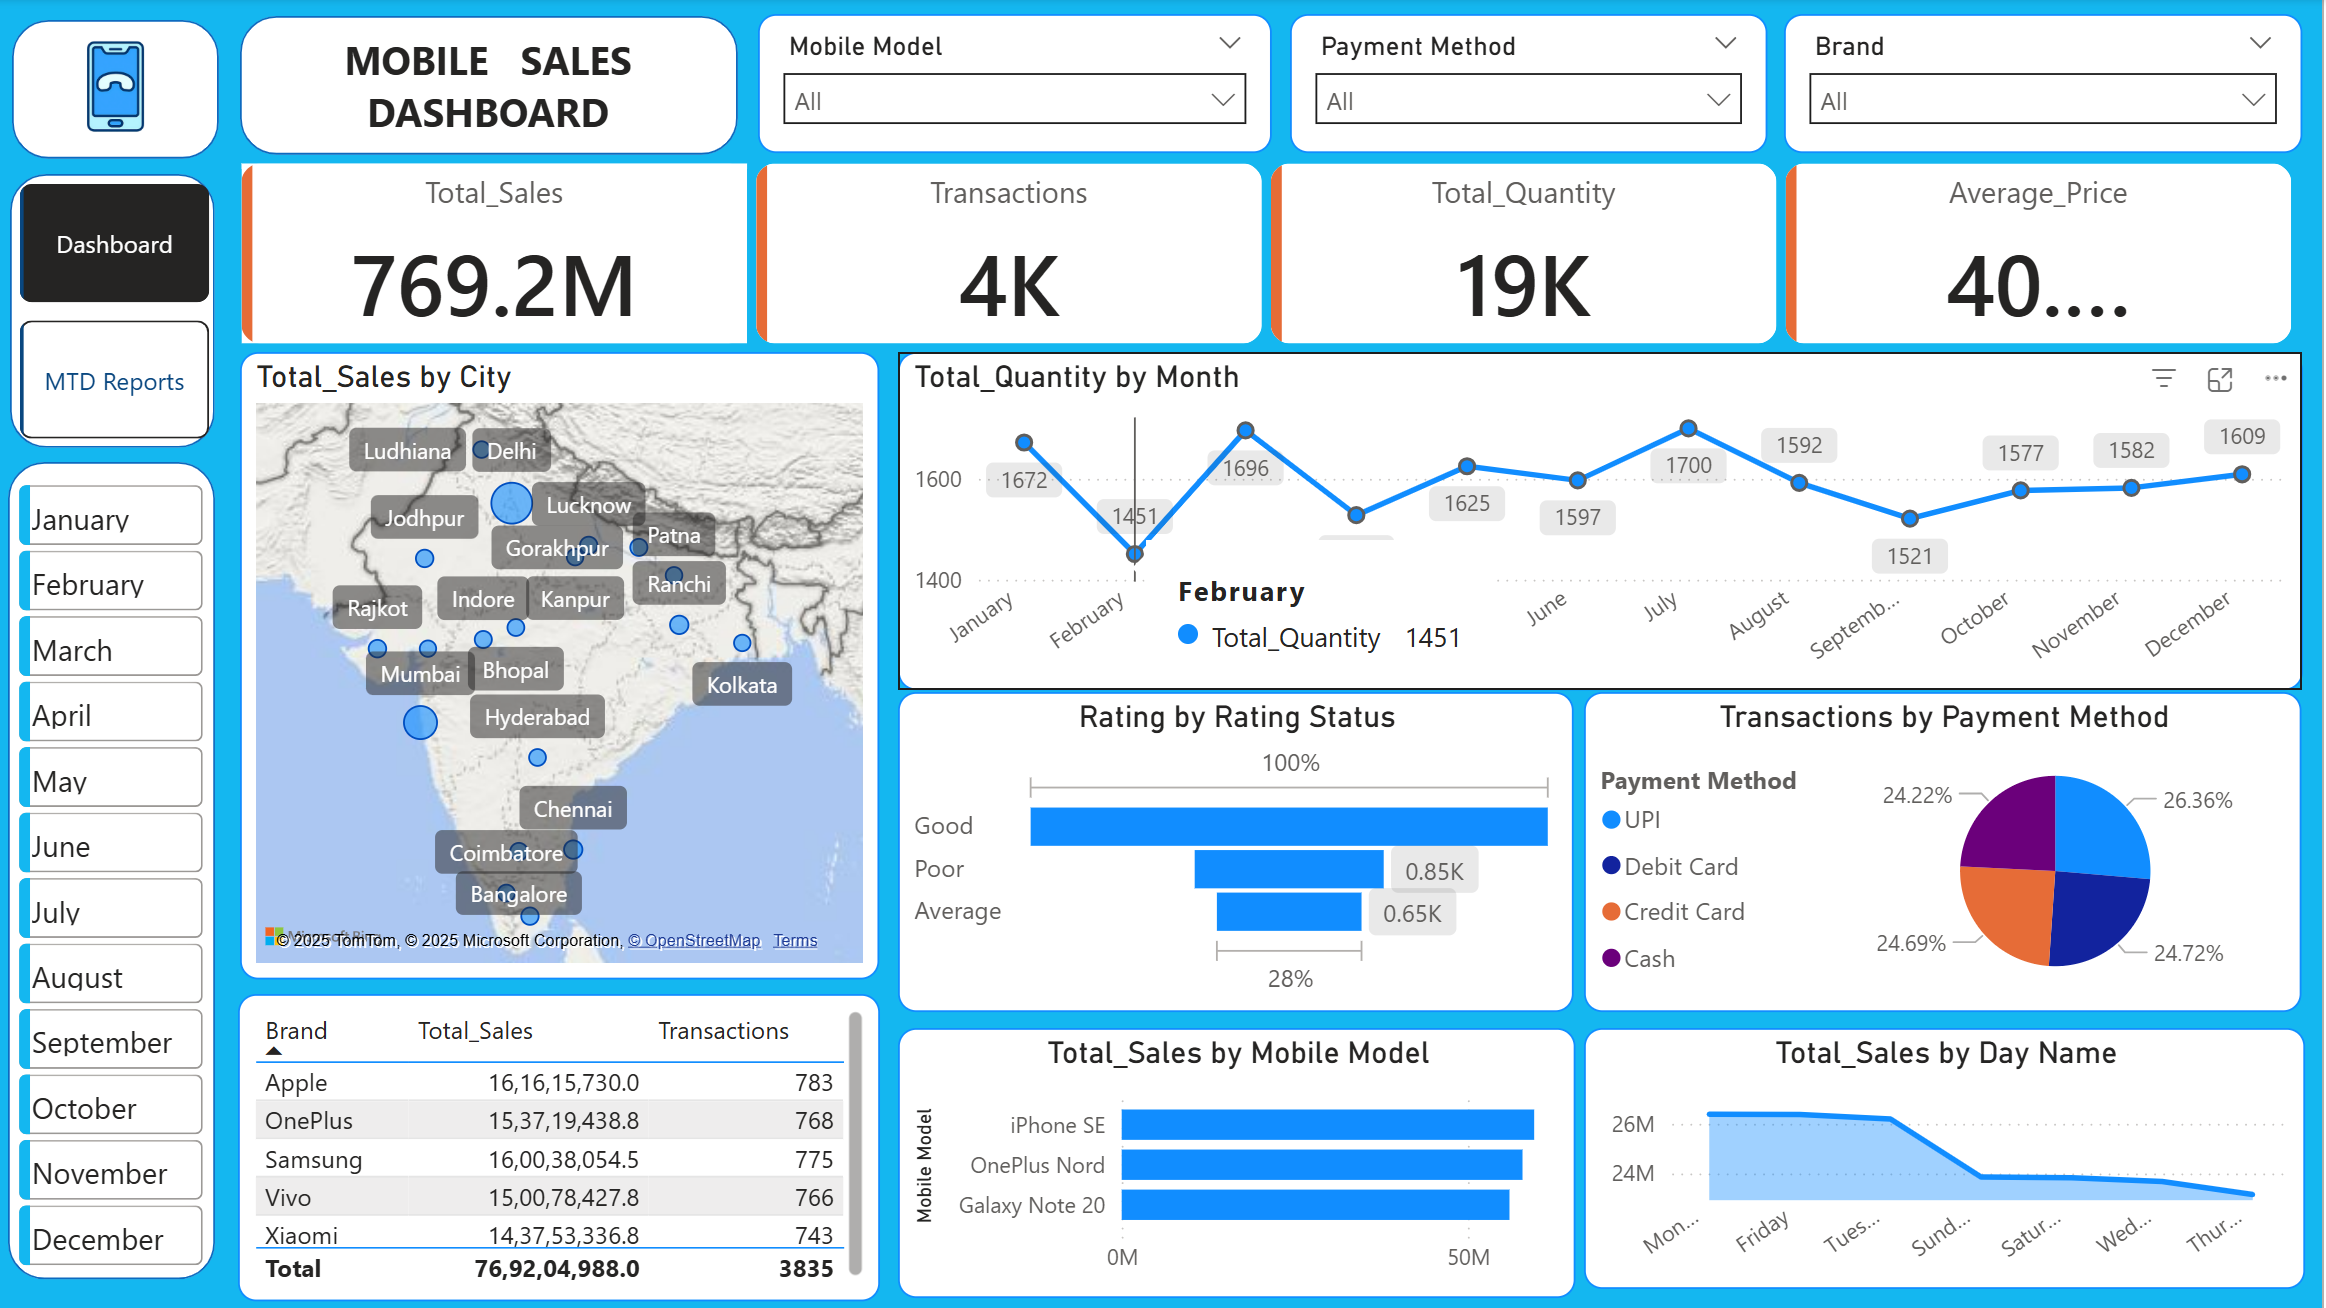

What the dashboard file says about the page in this screenshot:
{"tool":"powerbi","page":{"name":"Dashboard","canvas":[1280,720],"ordinal":0},"visuals":[{"type":"shape","box":[10,12.5,113.8,76.2],"z":0},{"type":"image","box":[28.8,21.2,76.2,56.2],"z":1000},{"type":"shape","box":[9.2,96.6,112.6,150.6],"z":2000},{"type":"shape","box":[8,255.2,113.8,449.4],"z":3000},{"type":"advancedSlicerVisual","fields":{"Values":["Custom_calendar.Date.Variation.Date Hierarchy.Month"]},"box":[9.2,263.2,111.5,441.4],"z":4000},{"type":"cardVisual","fields":{"Data":["Mobile_Sales_Data.Total_Sales","Mobile_Sales_Data.Transactions","Mobile_Sales_Data.Total_Quantity","Mobile_Sales_Data.Average_Price"]},"box":[121.8,77,1158.6,127.6],"z":5000},{"type":"slicer","fields":{"Values":["Mobile_Sales_Data.Mobile Model"]},"box":[420,8.8,282.5,76.2],"z":6000},{"type":"slicer","fields":{"Values":["Mobile_Sales_Data.Brand"]},"box":[983.8,8.8,285,76.2],"z":7000},{"type":"slicer","fields":{"Values":["Mobile_Sales_Data.Payment Method"]},"box":[712.5,8.8,262.5,76.2],"z":8000},{"type":"shape","box":[135,10,273.8,76.2],"z":9000},{"type":"textbox","box":[148.8,13.8,246.2,68.8],"z":10000},{"type":"map","fields":{"Category":["Mobile_Sales_Data.City"],"Size":["Mobile_Sales_Data.Total_Sales"]},"box":[135.6,194.3,351.7,344.8],"z":11000},{"type":"lineChart","fields":{"Y":["Mobile_Sales_Data.Total_Quantity"],"Category":["Custom_calendar.Date.Variation.Date Hierarchy.Month"]},"box":[496.6,194.3,772.4,186.2],"z":12000},{"type":"funnel","title":"Rating by Rating Status","fields":{"Y":["CountNonNull(Mobile_Sales_Data.Customer Age)"],"Category":["Mobile_Sales_Data.Rating Status"]},"box":[496.6,381.6,371.3,175.9],"z":13000},{"type":"pieChart","fields":{"Y":["Mobile_Sales_Data.Transactions"],"Category":["Mobile_Sales_Data.Payment Method"]},"box":[874.7,381.6,394.3,175.9],"z":14000},{"type":"clusteredBarChart","fields":{"Y":["Mobile_Sales_Data.Total_Sales"],"Category":["Mobile_Sales_Data.Mobile Model"]},"box":[496.6,566.7,372.4,148.3],"z":15000},{"type":"areaChart","fields":{"Y":["Mobile_Sales_Data.Total_Sales"],"Category":["Custom_calendar.Day Name"]},"box":[874.7,566.7,396.6,143.7],"z":16000},{"type":"tableEx","fields":{"Values":["Mobile_Sales_Data.Brand","Mobile_Sales_Data.Total_Sales","Mobile_Sales_Data.Transactions"]},"box":[134.5,547.1,352.9,169],"z":17000},{"type":"pageNavigator","box":[13.8,102.3,104.6,140.2],"z":17001}]}

Visuals, with their boxes in screenshot pixels (x1, y1, x2, y2), scaled from the page's 1280x720 canvas onto the 2326x1308 screenshot:
shape: <box>18,23,225,161</box>
image: <box>52,39,191,141</box>
shape: <box>17,175,221,449</box>
shape: <box>15,464,221,1280</box>
advancedSlicerVisual - Custom_calendar.Date.Variation.Date Hierarchy.Month: <box>17,478,219,1280</box>
cardVisual - Mobile_Sales_Data.Total_Sales x Mobile_Sales_Data.Transactions: <box>221,140,2325,372</box>
slicer - Mobile_Sales_Data.Mobile Model: <box>763,16,1277,154</box>
slicer - Mobile_Sales_Data.Brand: <box>1788,16,2306,154</box>
slicer - Mobile_Sales_Data.Payment Method: <box>1295,16,1772,154</box>
shape: <box>245,18,743,157</box>
textbox: <box>270,25,718,150</box>
map - Mobile_Sales_Data.City x Mobile_Sales_Data.Total_Sales: <box>246,353,886,979</box>
lineChart - Mobile_Sales_Data.Total_Quantity x Custom_calendar.Date.Variation.Date Hierarchy.Month: <box>902,353,2306,691</box>
"Rating by Rating Status" funnel: <box>902,693,1577,1013</box>
pieChart - Mobile_Sales_Data.Transactions x Mobile_Sales_Data.Payment Method: <box>1589,693,2306,1013</box>
clusteredBarChart - Mobile_Sales_Data.Total_Sales x Mobile_Sales_Data.Mobile Model: <box>902,1030,1579,1299</box>
areaChart - Mobile_Sales_Data.Total_Sales x Custom_calendar.Day Name: <box>1589,1030,2310,1291</box>
tableEx - Mobile_Sales_Data.Brand x Mobile_Sales_Data.Total_Sales: <box>244,994,886,1301</box>
pageNavigator: <box>25,186,215,441</box>
